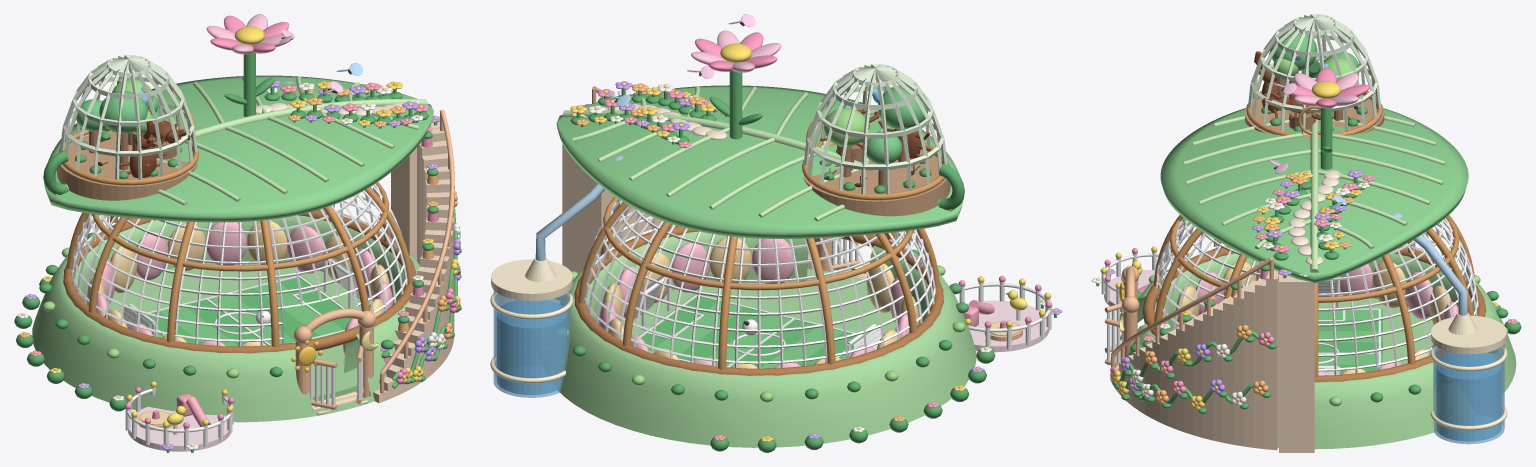
3 renders of one model, left to right at view 1: azimuth 30°, elevation 25°; view 2: azimuth 150°, elevation 25°; view 3: azimuth 270°, elevation 25°, orthographic. The views are drawn at different scales.
Parts seen in each view (by area): view 1: 大きなはっぱ, 土の丘, サッカー場のあみ, 虫の森のあみ, 土台, ドームのわく_下, 森の土, ドームのわく_中, 踊り場, やわらかマット, 手すり, 葉脈_まん中 (+35 smaller); view 2: 土の丘, 大きなはっぱ, サッカー場のあみ, 虫の森のあみ, タンク, ためた雨水, 土台, ドームのわく_下, 森の土, 踊り場, ドームのわく_中, タンクのふた (+28 smaller); view 3: 大きなはっぱ, 土の丘, サッカー場のあみ, 踊り場, 虫の森のあみ, タンク, ためた雨水, ドームのわく_下, 階段_21, タンクのふた, 土台, 階段_20 (+45 smaller).
Part boxes in pixels (box(x1,y1,x2,y2)): 大きなはっぱ: box(44, 75, 433, 222); 土の丘: box(32, 215, 420, 422); サッカー場のあみ: box(71, 184, 407, 346); 虫の森のあみ: box(60, 55, 197, 180); 土台: box(109, 261, 370, 400); ドームのわく_下: box(63, 210, 416, 353); 森の土: box(57, 130, 197, 200); ドームのわく_中: box(92, 182, 389, 271); 踊り場: box(391, 122, 446, 260); やわらかマット: box(128, 406, 230, 451); 手すり: box(380, 109, 454, 374); 葉脈_まん中: box(54, 99, 427, 196); 土の丘: box(558, 231, 976, 447); 大きなはっぱ: box(556, 85, 963, 238); サッカー場のあみ: box(584, 199, 935, 368); 虫の森のあみ: box(803, 64, 947, 194); タンク: box(493, 290, 570, 397); ためた雨水: box(497, 300, 566, 394); 土台: box(622, 269, 895, 335); ドームのわく_下: box(574, 226, 943, 375); 森の土: box(802, 149, 950, 216); 踊り場: box(562, 144, 620, 273); ドームのわく_中: box(603, 197, 913, 290); タンクのふた: box(491, 259, 572, 300); 大きなはっぱ: box(1160, 108, 1468, 283); 土の丘: box(1120, 253, 1516, 449); サッカー場のあみ: box(1156, 218, 1478, 375); 踊り場: box(1279, 274, 1314, 452); 虫の森のあみ: box(1248, 14, 1381, 135); タンク: box(1433, 344, 1504, 444); ためた雨水: box(1436, 353, 1501, 441); ドームのわく_下: box(1142, 246, 1486, 382); 階段_21: box(1266, 270, 1278, 450); タンクのふた: box(1431, 315, 1506, 354); 土台: box(1161, 295, 1433, 364); 階段_20: box(1255, 277, 1265, 449).
Bounding box in the file's own units: 146 × 110 × 145.
